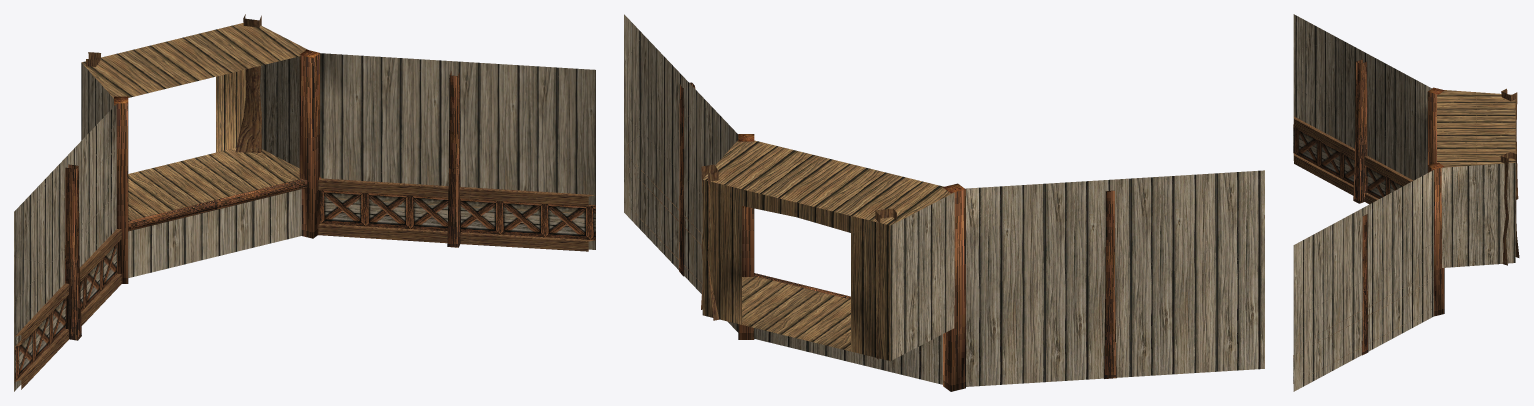
Rendered from LAKETOWN_WAREHOUSE2_PS_WH2_SIDEWALL94848__GX.obj.
3 renders of one model, left to right at view 1: azimuth 30°, elevation 25°; view 2: azimuth 150°, elevation 25°; view 3: azimuth 270°, elevation 25°, orthographic. The views are drawn at different scales.
Parts seen in each view (by area): view 1: deWall94848__GX; view 2: deWall94848__GX; view 3: deWall94848__GX.
Part boxes in pixels (x1,y1,x2,y2): deWall94848__GX: [14, 14, 595, 391]; deWall94848__GX: [624, 14, 1264, 391]; deWall94848__GX: [1293, 14, 1519, 391].
Size of the model in its own units: 1763 by 545 by 728.
